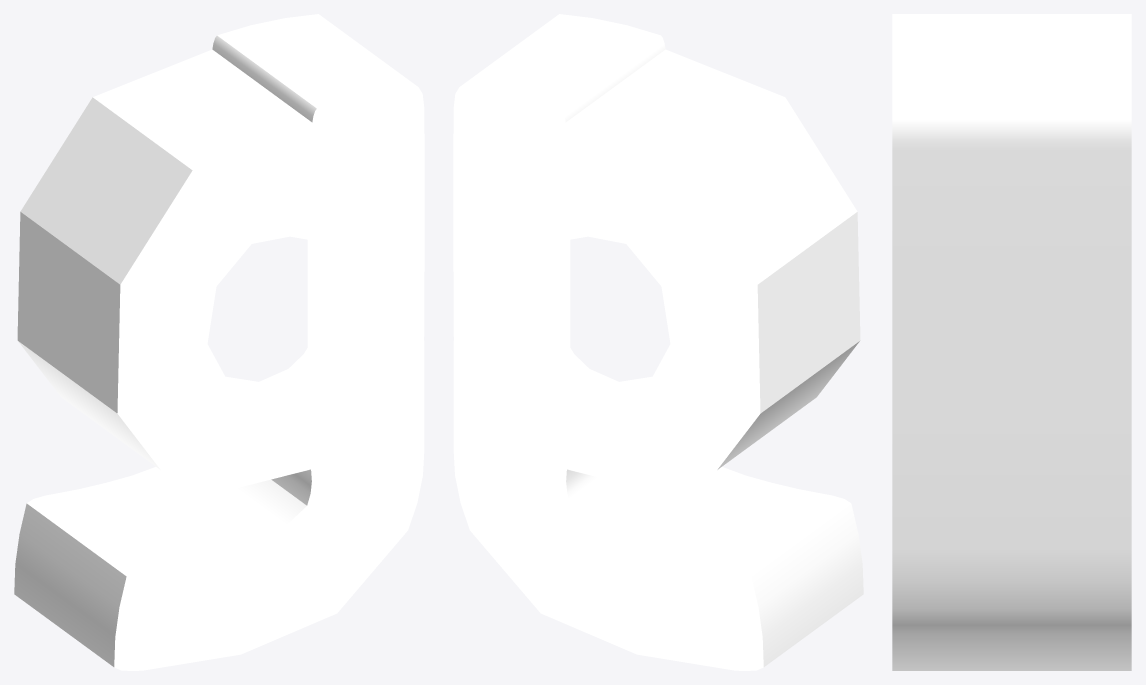
Rendered from G_Zyzol_White.glb.
3 renders of one model, left to right at view 1: azimuth 30°, elevation 25°; view 2: azimuth 150°, elevation 25°; view 3: azimuth 270°, elevation 25°, orthographic. The views are drawn at different scales.
Visible parts, largest first — view 1: g_Zyzol_White; view 2: g_Zyzol_White; view 3: g_Zyzol_White.
Part boxes in pixels (x1,y1,x2,y2): g_Zyzol_White: (14,14,424,670); g_Zyzol_White: (453,14,863,670); g_Zyzol_White: (892,14,1131,670).
Size of what is drawn, in the model's own units: 0.0807 by 0.1315 by 0.045.
2 materials, 2 textured.
